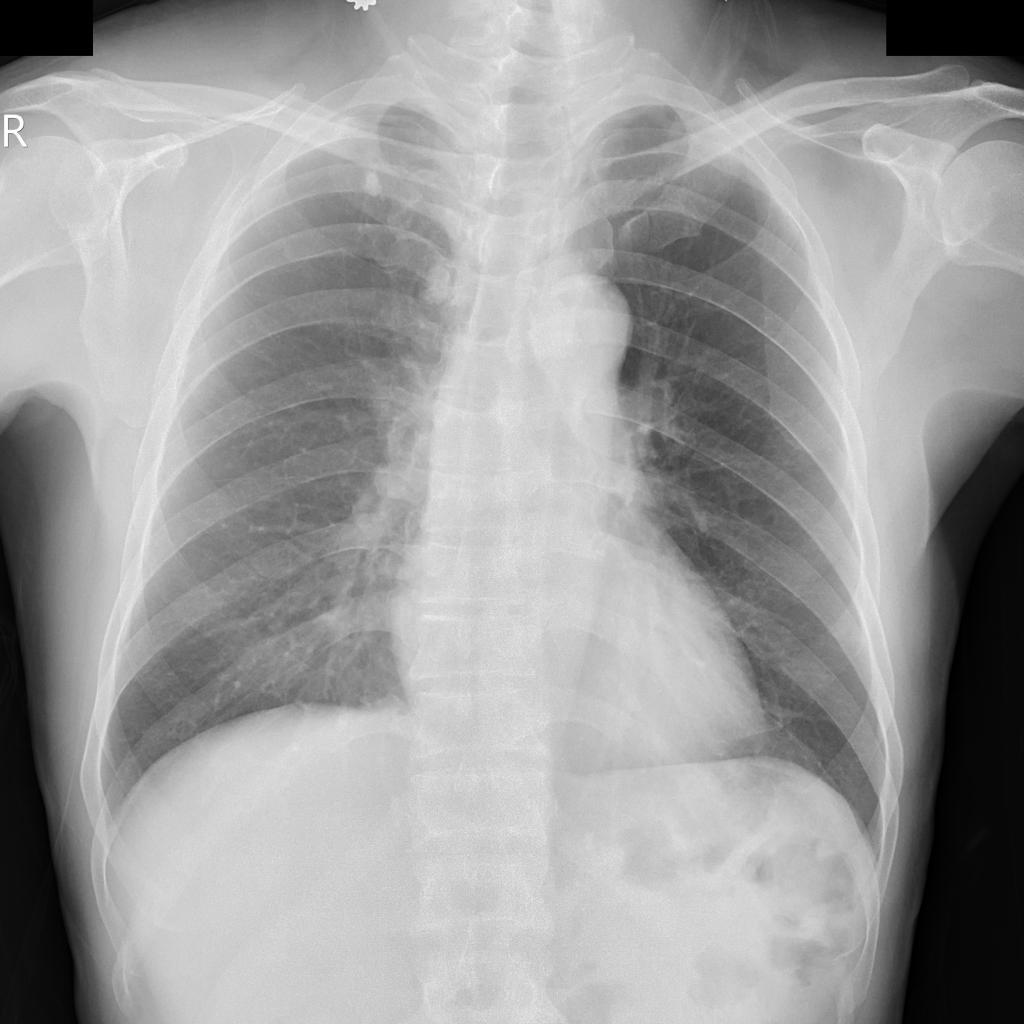Nodule: (424, 266, 454, 303), (362, 161, 388, 200)
